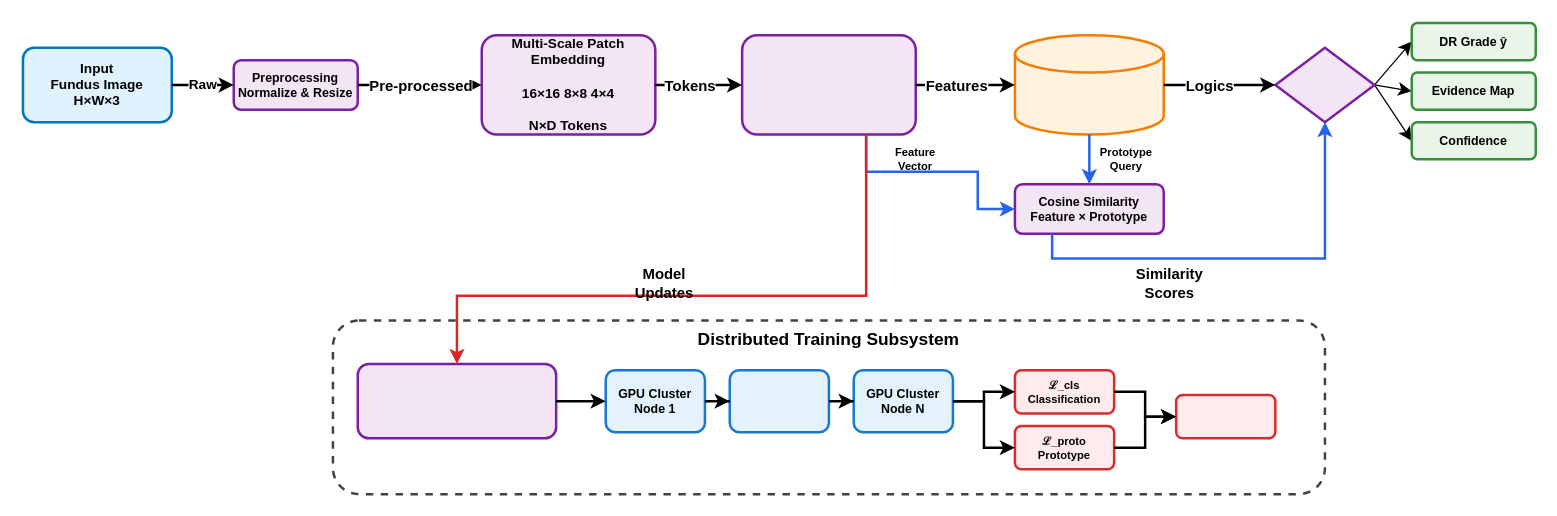
Some shapes in this 1557 by 516 pixel diagram are drawn without their labels. The shapes that lost their labels are listed below. From the top down, each one's centre as x and y in pixels, then its label:
the point at 828,84: Cross-Scale Vision Transformer L=12 layers Multi-Head Attention
the point at 1088,84: Prototype Memory Bank G₀ G₁ G₂ G₃ G₄ K×D prototypes
the point at 1324,84: Classification Logic
the point at 456,400: Federated Learning Controller Parameter Aggregation
the point at 779,400: GPU Cluster Node 2
the point at 1225,416: ℒ_total Combined Loss
